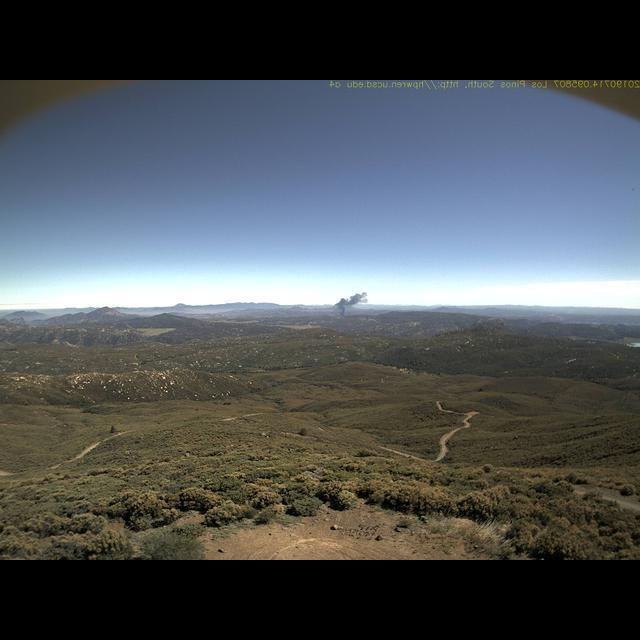Smoke: (330, 287, 370, 321)
